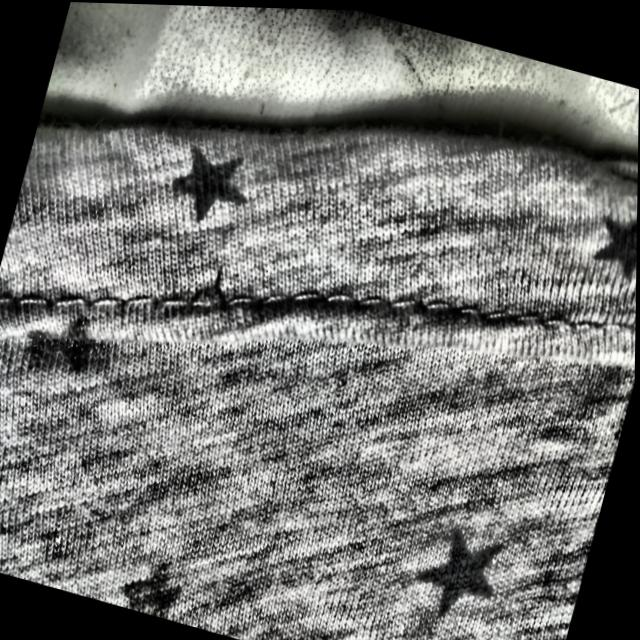Stitch: (167, 227, 285, 351)
